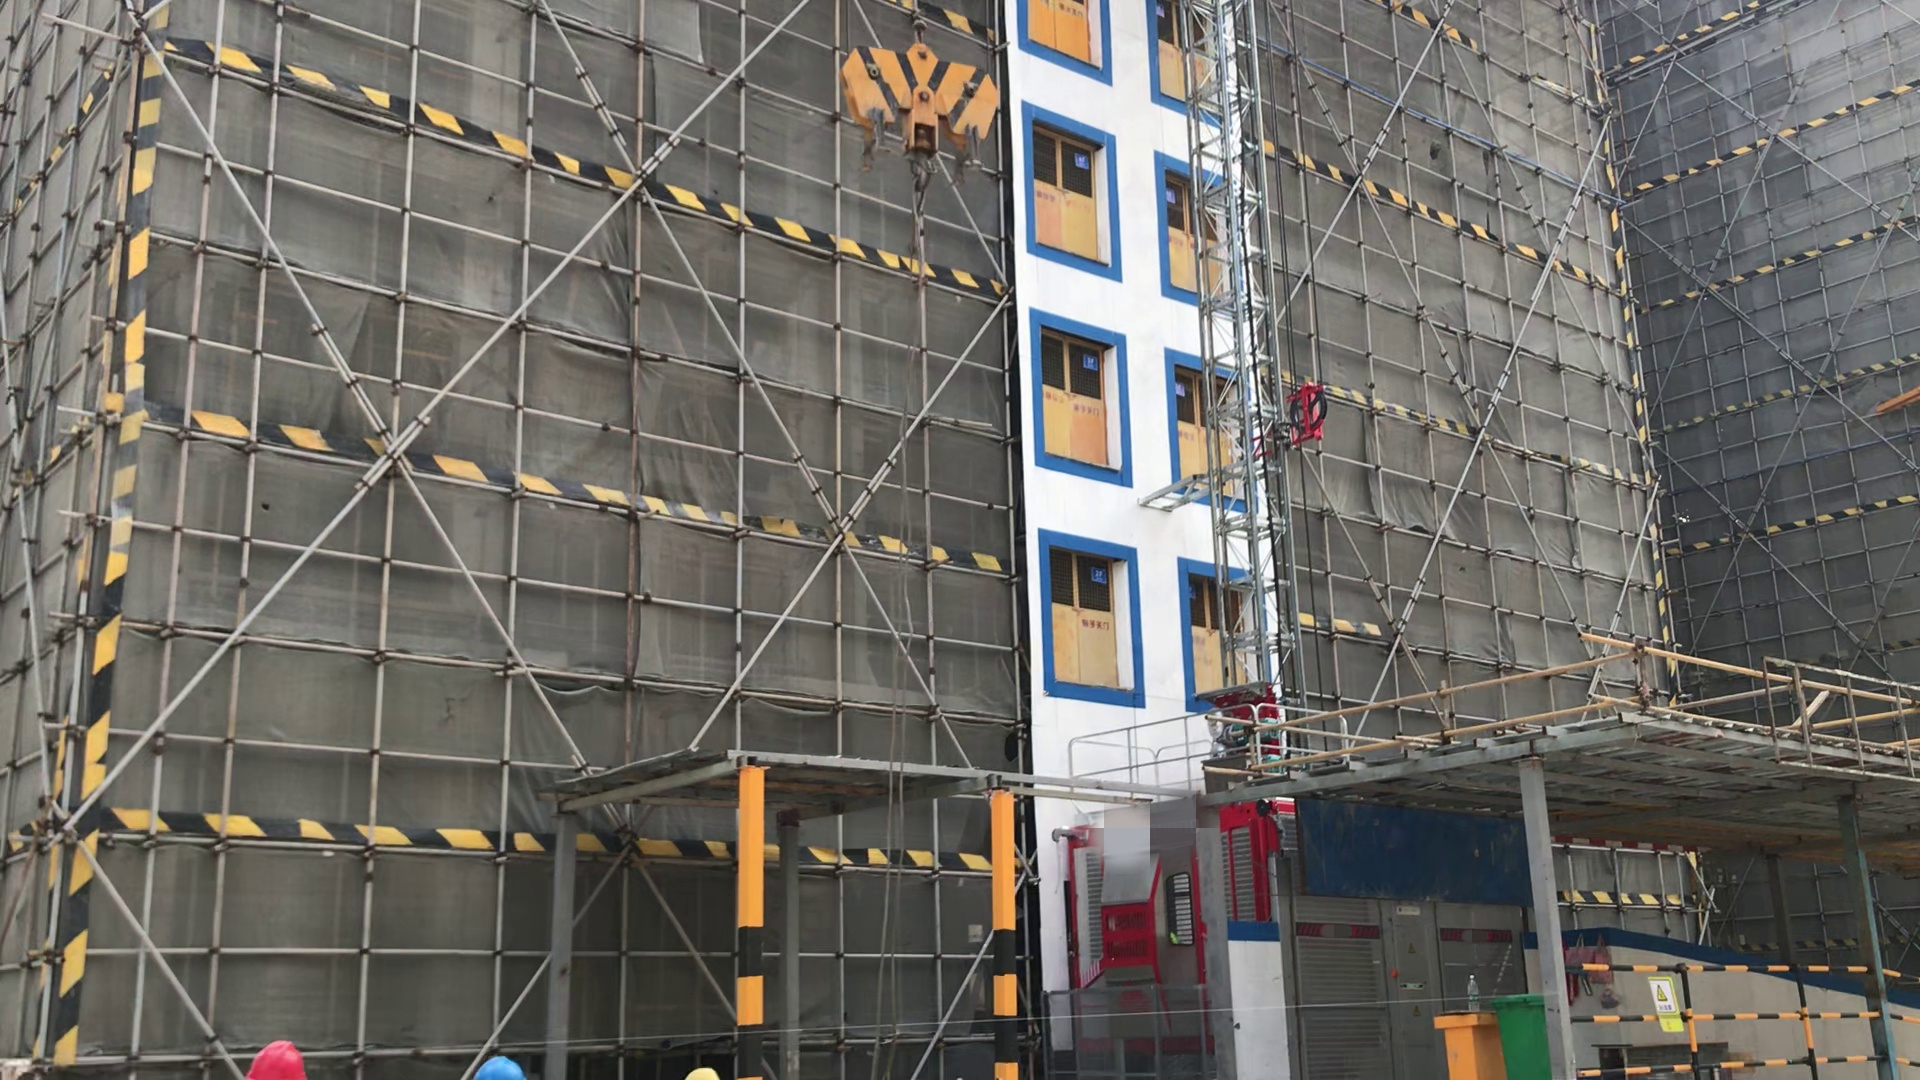fence: (1571, 920, 1903, 1080)
helmet: (243, 1034, 316, 1080), (469, 1052, 529, 1080), (682, 1062, 725, 1080)
hook: (833, 22, 1058, 189)
slogan: (1644, 973, 1684, 1042)
